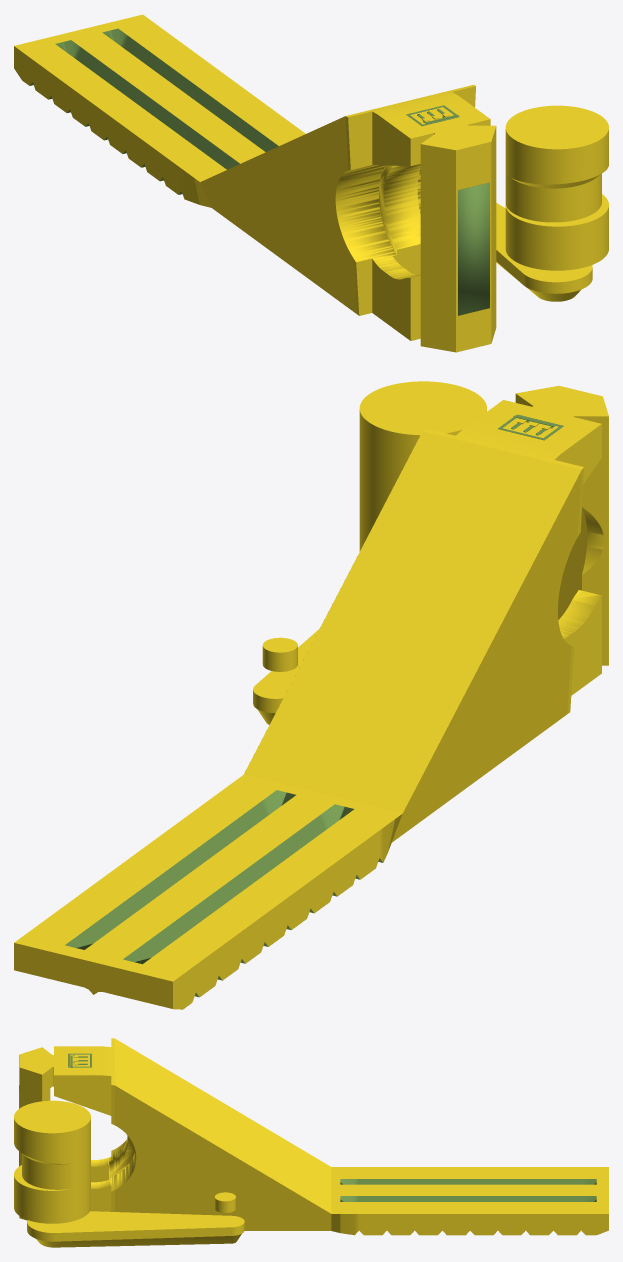
The model's file is openscad_ex-clamp.glb.
3 views of the same model, one above another, from view 1: azimuth 30°, elevation 25°; view 2: azimuth 150°, elevation 25°; view 3: azimuth 270°, elevation 25° (orthographic). The views are drawn at different scales.
Parts seen in each view (by area): view 1: object; view 2: object; view 3: object.
Part boxes in pixels (x1,y1,x2,y2): object: (14,14,608,352); object: (14,381,608,1009); object: (14,1038,608,1247).
Size of the model in its own units: 33.33 by 30.14 by 107.
